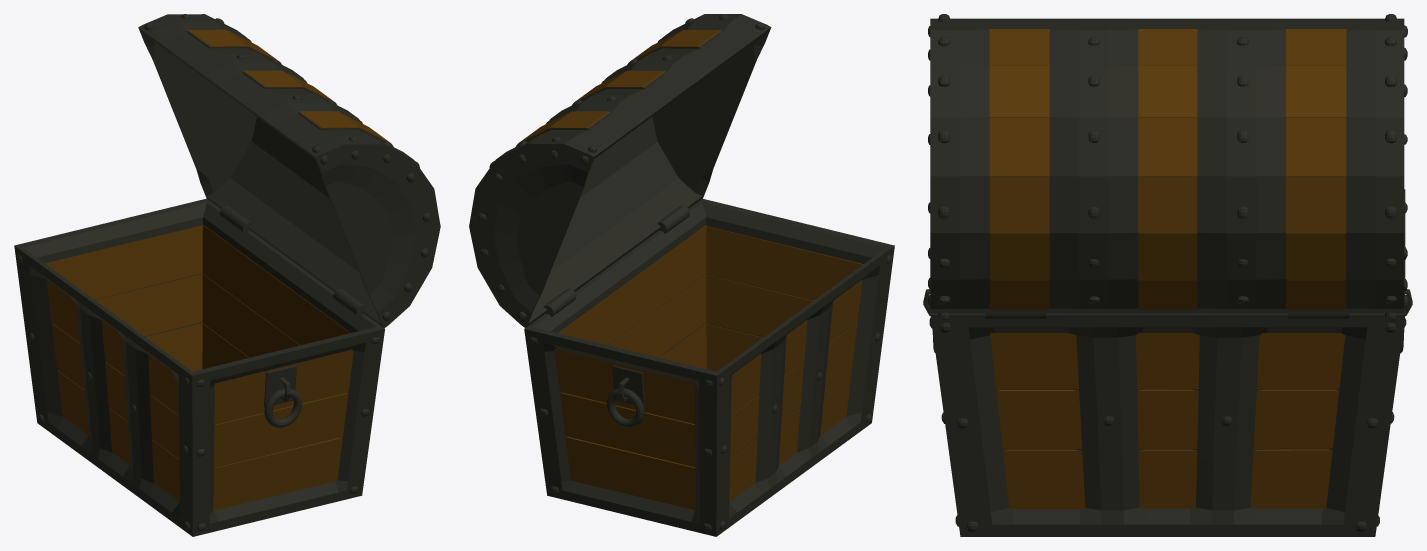
File: simple_pirate_chest.glb
3 views of the same model, side by side, from view 1: azimuth 30°, elevation 25°; view 2: azimuth 150°, elevation 25°; view 3: azimuth 270°, elevation 25° (orthographic). The views are drawn at different scales.
Parts seen in each view (by area): view 1: Object_3, Object_5, Object_2, Object_4, Object_6, Object_8, Object_7; view 2: Object_3, Object_5, Object_2, Object_4, Object_7, Object_6; view 3: Object_5, Object_2, Object_4, Object_3, Object_6, Object_7.
Part boxes in pixels (<box>): Object_3: <box>45,225,353,510</box>; Object_5: <box>138,14,440,328</box>; Object_2: <box>14,198,384,536</box>; Object_4: <box>188,29,393,146</box>; Object_6: <box>144,14,430,320</box>; Object_8: <box>264,388,302,427</box>; Object_7: <box>17,255,379,531</box>; Object_3: <box>554,225,863,510</box>; Object_5: <box>469,14,771,327</box>; Object_2: <box>524,198,894,536</box>; Object_4: <box>515,30,720,146</box>; Object_7: <box>530,255,891,531</box>; Object_6: <box>478,14,764,321</box>; Object_5: <box>930,18,1404,319</box>; Object_2: <box>923,189,1412,536</box>; Object_4: <box>989,29,1346,309</box>; Object_3: <box>990,333,1345,508</box>; Object_6: <box>928,14,1408,320</box>; Object_7: <box>929,318,1406,531</box>.
Bounding box in the file's own units: 3.76 × 5.25 × 4.76.
